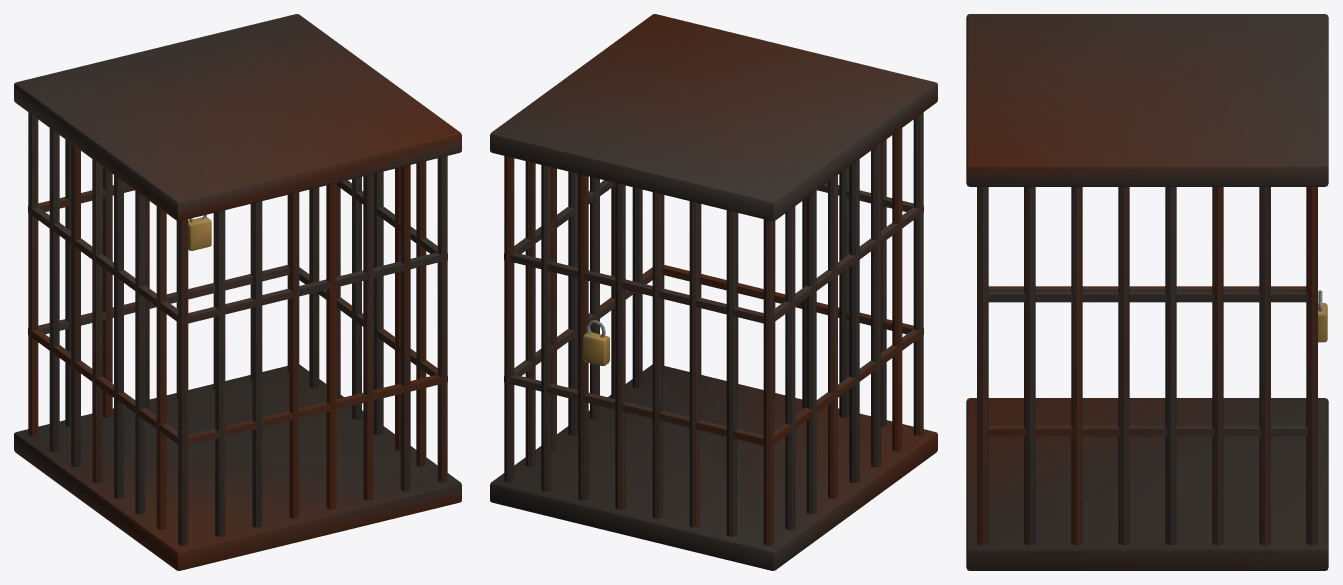
File: Cage.glb
The picture shows the model from 3 angles, left to right: view 1: azimuth 30°, elevation 25°; view 2: azimuth 150°, elevation 25°; view 3: azimuth 270°, elevation 25°; orthographic projection. The views are drawn at different scales.
Parts seen in each view (by area): view 1: Cage_iron, Cage_brass; view 2: Cage_iron, Cage_brass; view 3: Cage_iron.
Part boxes in pixels (box(x1,y1,x2,y2)): Cage_iron: box(14, 14, 461, 570); Cage_brass: box(188, 217, 211, 250); Cage_iron: box(490, 14, 937, 570); Cage_brass: box(583, 332, 609, 365); Cage_iron: box(966, 14, 1328, 570).
Size of the model in its own units: 4.4 by 5.45 by 4.4.
